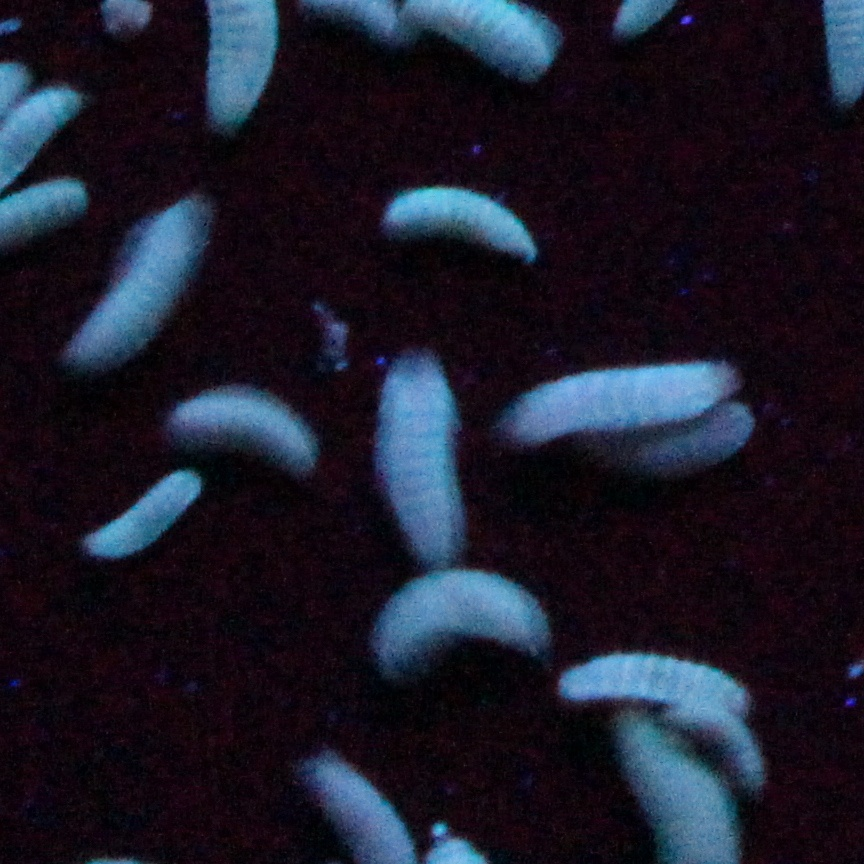larve: (80, 199, 212, 368), (382, 354, 467, 566), (508, 366, 735, 440), (377, 576, 553, 670), (382, 184, 537, 264), (177, 389, 318, 472), (561, 648, 757, 707), (80, 476, 198, 560), (675, 707, 769, 789)
